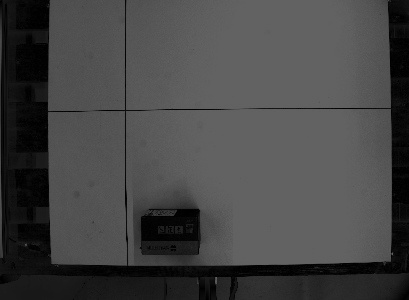b4: (138, 206, 201, 257)
